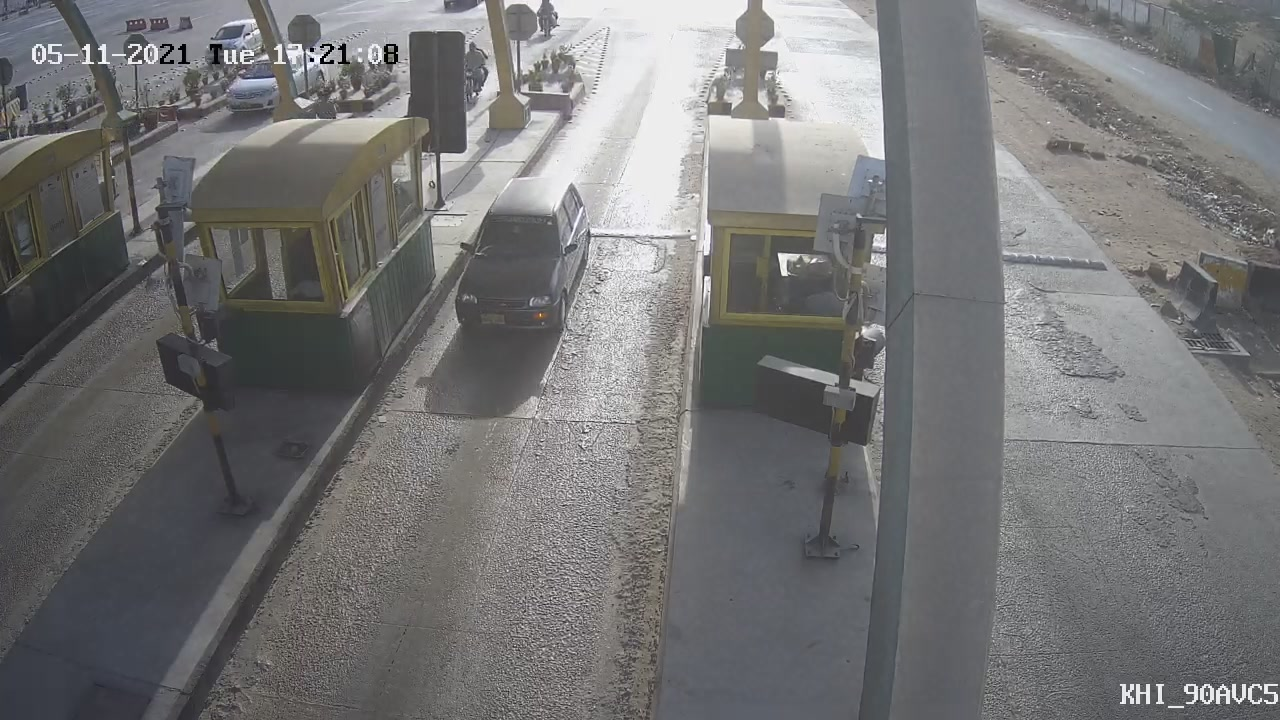F1: (425, 162, 611, 357)
